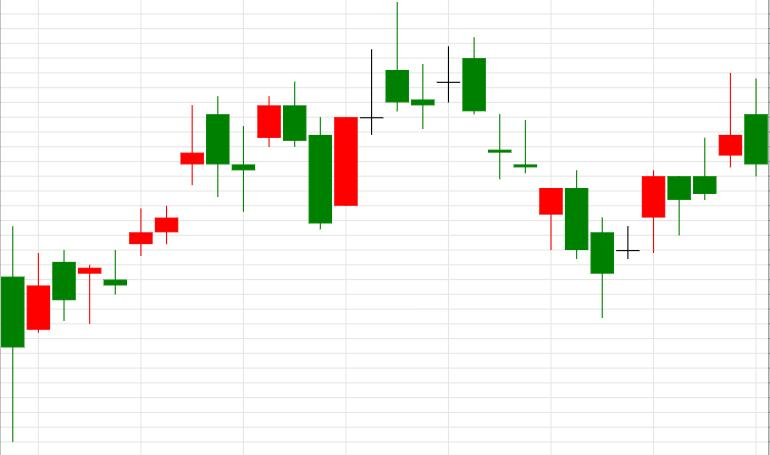bearish_engulfing_fall: (103, 95, 229, 294)
hammer_rise: (437, 38, 563, 249)
shooting_star_fall: (591, 73, 742, 318)
